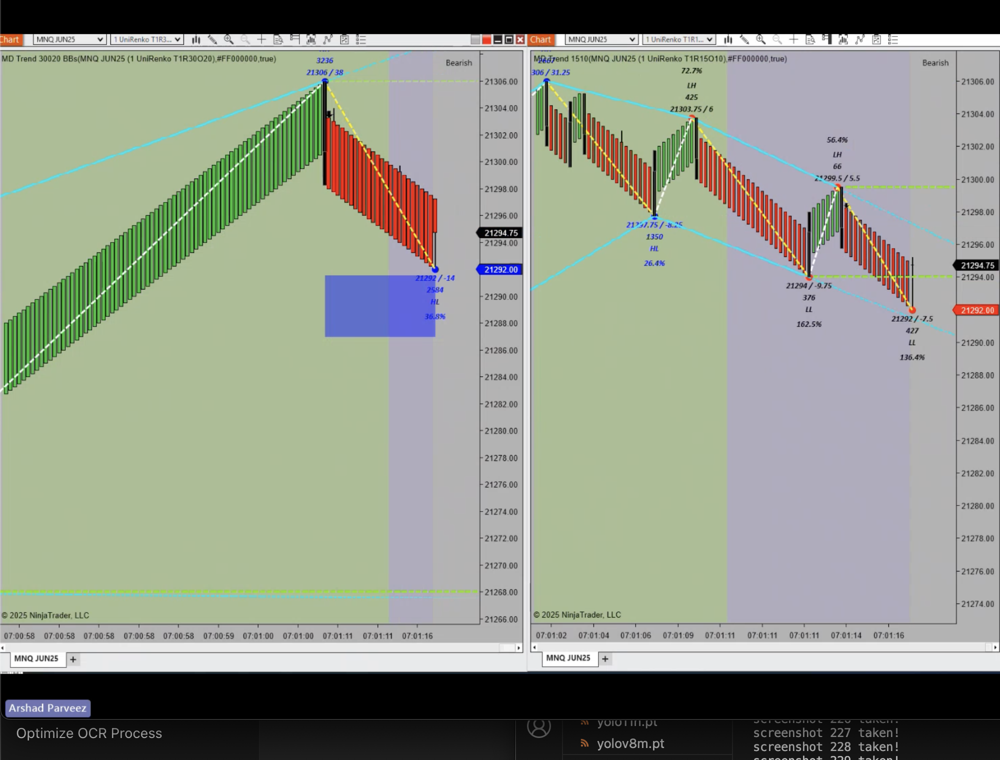HL: (643, 237, 668, 259), (426, 292, 447, 310)
LH: (828, 145, 854, 165), (681, 77, 707, 96)
LL: (903, 333, 928, 355), (797, 300, 822, 319)
